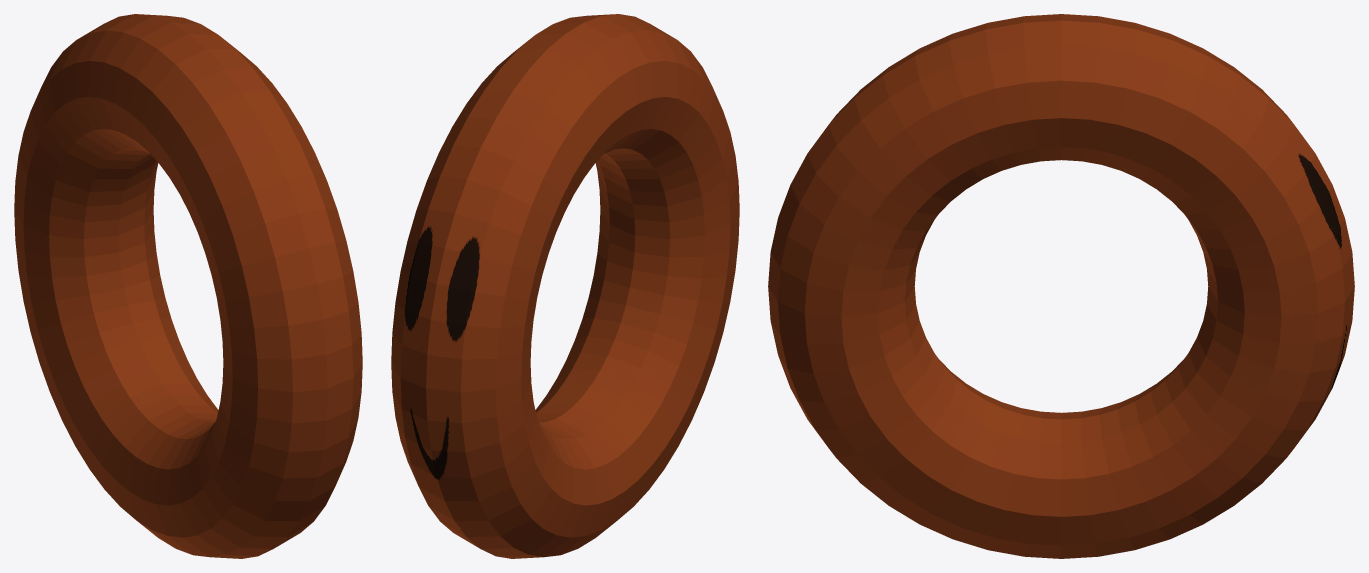
File: player.obj
3 renders of one model, left to right at view 1: azimuth 30°, elevation 25°; view 2: azimuth 150°, elevation 25°; view 3: azimuth 270°, elevation 25°, orthographic. The views are drawn at different scales.
Visible parts, largest first — view 1: トーラス.001; view 2: トーラス.001; view 3: トーラス.001.
Part boxes in pixels (<box>): トーラス.001: <box>14,14,362,558</box>; トーラス.001: <box>391,14,739,558</box>; トーラス.001: <box>768,14,1354,558</box>.
Size of the model in its own units: 0.25 by 1 by 1.
Materials: 1 (1 with a texture image).
